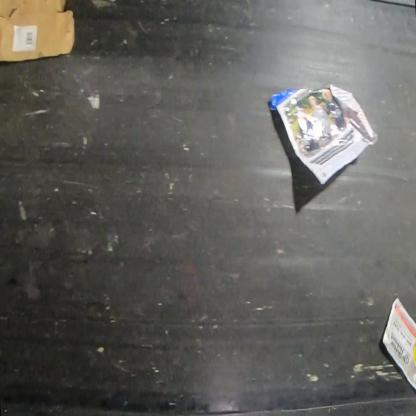cardboard: (0, 0, 75, 62)
